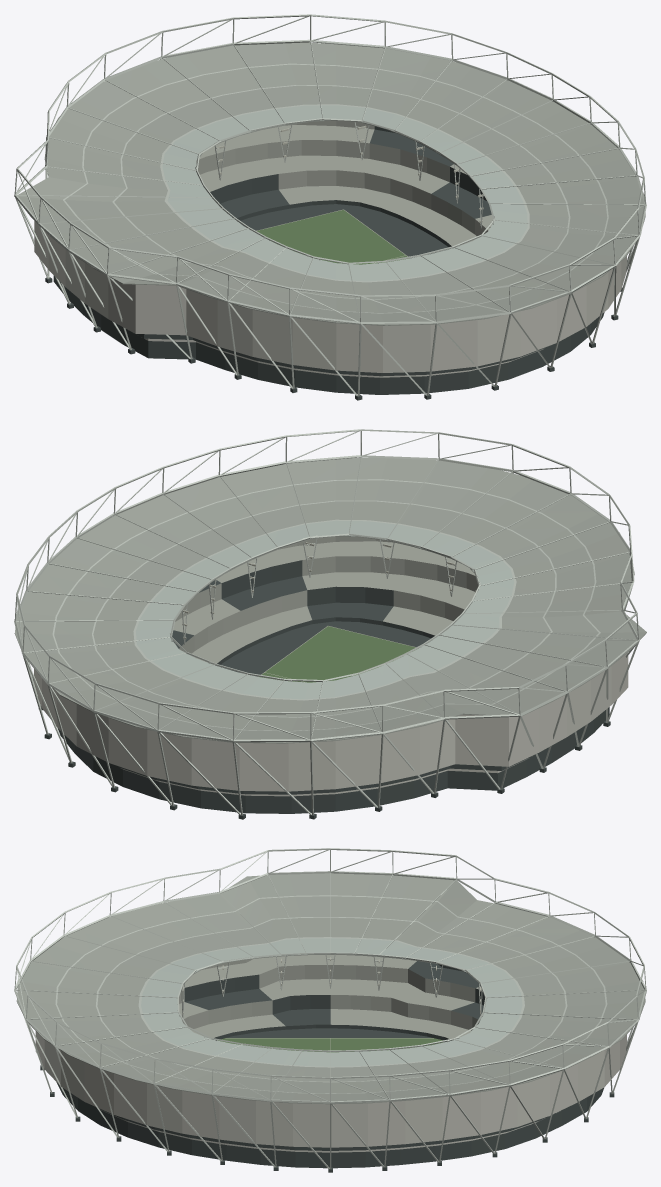
The model's file is london-stadium-far.glb.
3 views of the same model, one above another, from view 1: azimuth 30°, elevation 25°; view 2: azimuth 150°, elevation 25°; view 3: azimuth 270°, elevation 25° (orthographic). The views are drawn at different scales.
Visible parts, largest first — view 1: london-stadium-0-roof, london-stadium-0-steel, london-stadium-0-wrap, london-stadium-0-dark, london-stadium-0-roofglass, london-stadium-0-seats, london-stadium-0-pitch; view 2: london-stadium-0-roof, london-stadium-0-steel, london-stadium-0-wrap, london-stadium-0-dark, london-stadium-0-roofglass, london-stadium-0-seats, london-stadium-0-pitch; view 3: london-stadium-0-roof, london-stadium-0-steel, london-stadium-0-wrap, london-stadium-0-dark, london-stadium-0-seats, london-stadium-0-roofglass, london-stadium-0-pitch.
Boxes of the visible parts, <box> form: london-stadium-0-roof: <box>17,42,645,325</box>; london-stadium-0-steel: <box>14,14,646,396</box>; london-stadium-0-wrap: <box>34,221,626,377</box>; london-stadium-0-dark: <box>45,126,622,400</box>; london-stadium-0-roofglass: <box>162,105,527,281</box>; london-stadium-0-seats: <box>196,120,492,246</box>; london-stadium-0-pitch: <box>257,210,409,264</box>; london-stadium-0-roof: <box>14,457,646,743</box>; london-stadium-0-steel: <box>14,429,639,815</box>; london-stadium-0-wrap: <box>34,653,628,796</box>; london-stadium-0-dark: <box>40,560,610,819</box>; london-stadium-0-roofglass: <box>135,520,514,699</box>; london-stadium-0-seats: <box>173,536,478,664</box>; london-stadium-0-pitch: <box>259,626,418,682</box>; london-stadium-0-roof: <box>16,873,645,1104</box>; london-stadium-0-steel: <box>14,848,646,1168</box>; london-stadium-0-wrap: <box>35,1031,626,1152</box>; london-stadium-0-dark: <box>40,961,614,1172</box>; london-stadium-0-seats: <box>179,955,481,1039</box>; london-stadium-0-roofglass: <box>141,938,522,1066</box>; london-stadium-0-pitch: <box>218,1038,442,1052</box>.
Size of the model in its own units: 253 by 53.12 by 293.
